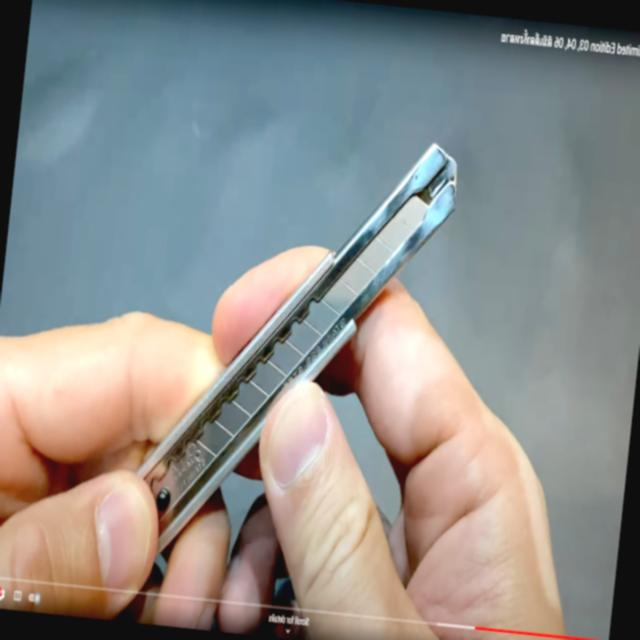cutter: (0, 94, 480, 590)
